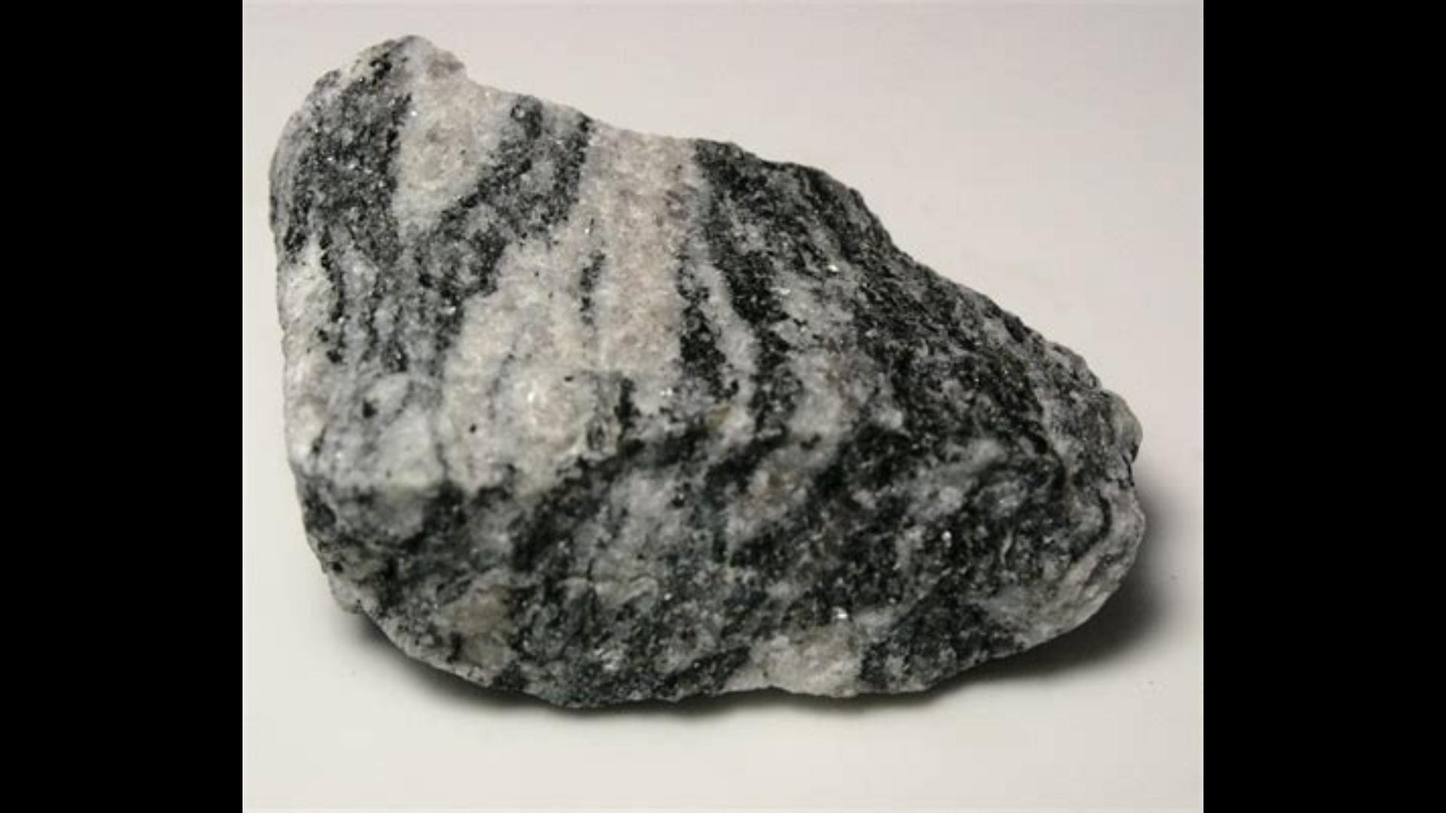rock: (271, 39, 1141, 706)
